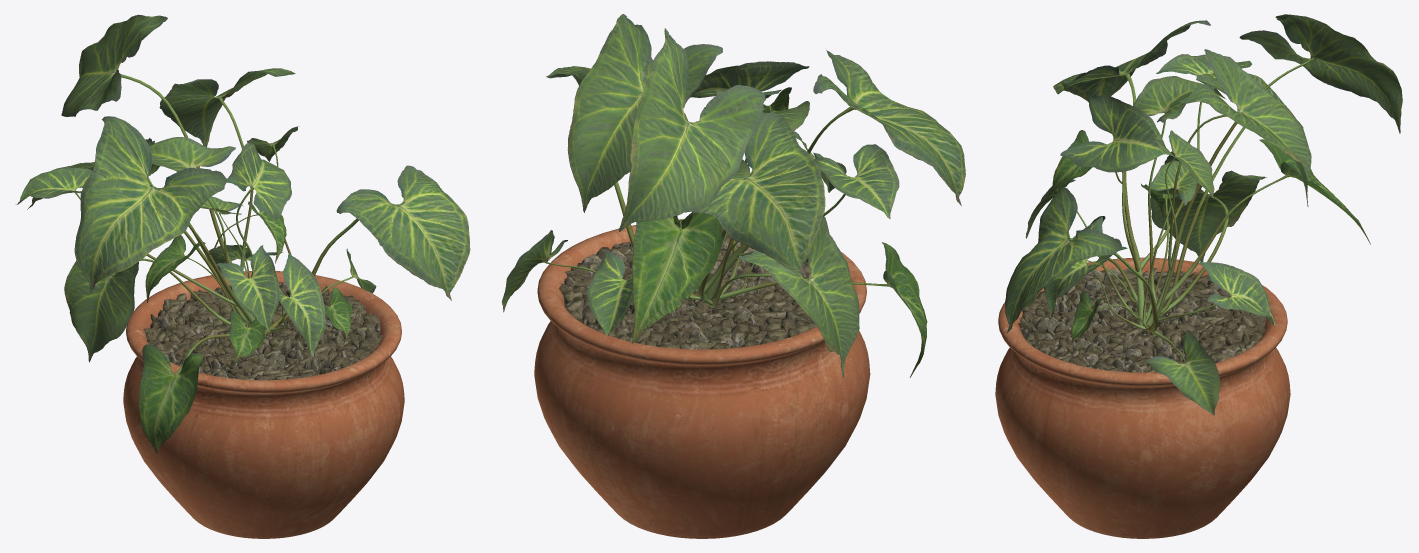
Rendered from potted_plant_02.glb.
3 views of the same model, side by side, from view 1: azimuth 30°, elevation 25°; view 2: azimuth 150°, elevation 25°; view 3: azimuth 270°, elevation 25° (orthographic). The views are drawn at different scales.
Visible parts, largest first — view 1: potted_plant_02_leaves, potted_plant_02_pot, potted_plant_02_dirt; view 2: potted_plant_02_leaves, potted_plant_02_pot, potted_plant_02_dirt; view 3: potted_plant_02_leaves, potted_plant_02_pot, potted_plant_02_dirt.
Part boxes in pixels (left/top/right/bottom): potted_plant_02_leaves: left=15, top=14, right=470, bottom=452; potted_plant_02_pot: left=123, top=271, right=404, bottom=538; potted_plant_02_dirt: left=143, top=282, right=383, bottom=380; potted_plant_02_leaves: left=502, top=14, right=965, bottom=377; potted_plant_02_pot: left=534, top=219, right=870, bottom=538; potted_plant_02_dirt: left=559, top=234, right=816, bottom=349; potted_plant_02_leaves: left=1005, top=14, right=1402, bottom=415; potted_plant_02_pot: left=995, top=257, right=1290, bottom=538; potted_plant_02_dirt: left=1018, top=267, right=1266, bottom=372.
Bounding box in the file's own units: 0.7012 × 0.8412 × 0.6574.
2 materials, 2 textured.
